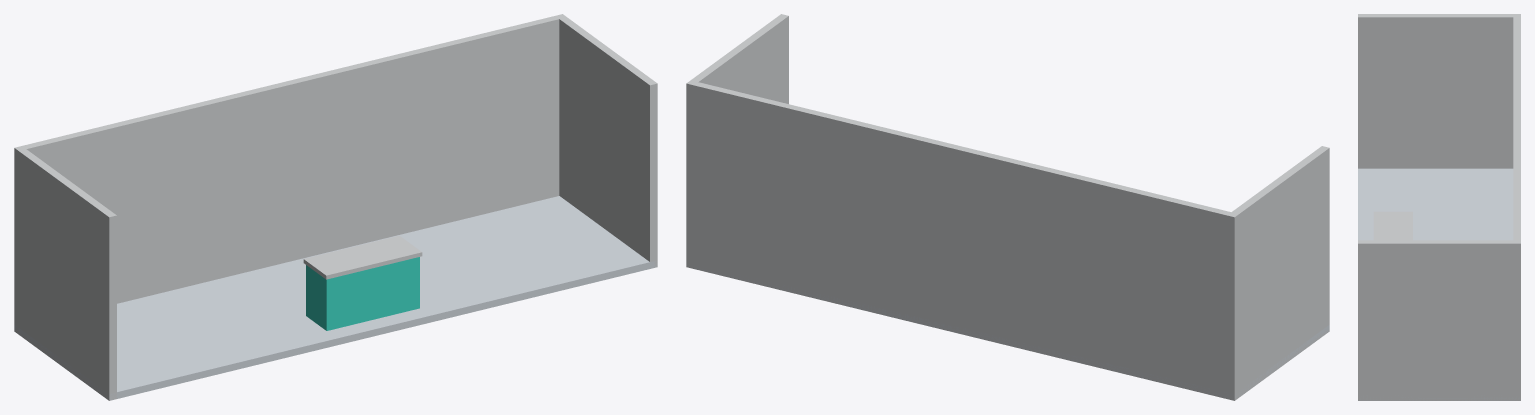
The picture shows the model from 3 angles, left to right: view 1: azimuth 30°, elevation 25°; view 2: azimuth 150°, elevation 25°; view 3: azimuth 270°, elevation 25°; orthographic projection. The views are drawn at different scales.
Parts seen in each view (by area): view 1: Exhibition Booth Concept; view 2: Exhibition Booth Concept; view 3: Exhibition Booth Concept.
Part boxes in pixels (<box>): Exhibition Booth Concept: <box>14,14,657,400</box>; Exhibition Booth Concept: <box>686,14,1329,400</box>; Exhibition Booth Concept: <box>1358,14,1520,400</box>.
Bounding box in the file's own units: 10 × 3.2 × 3.
